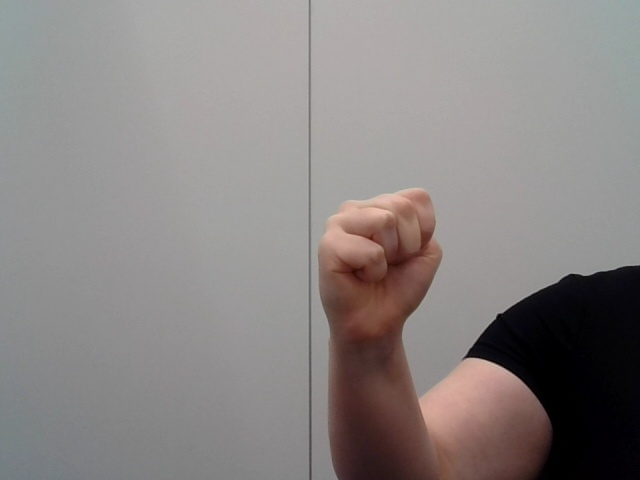down: (293, 180, 467, 349)
